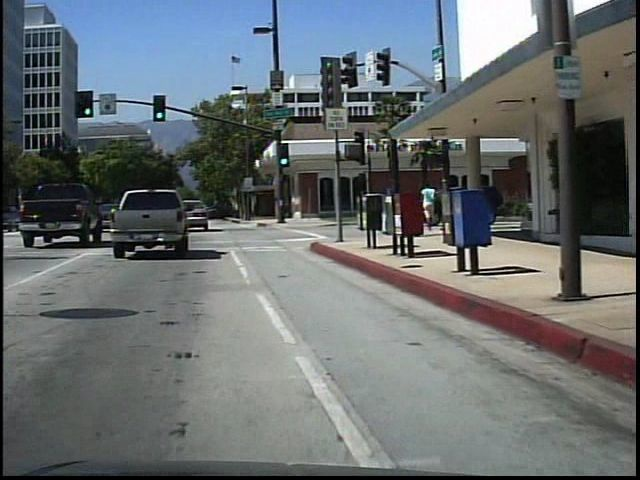person: (423, 180, 440, 233)
